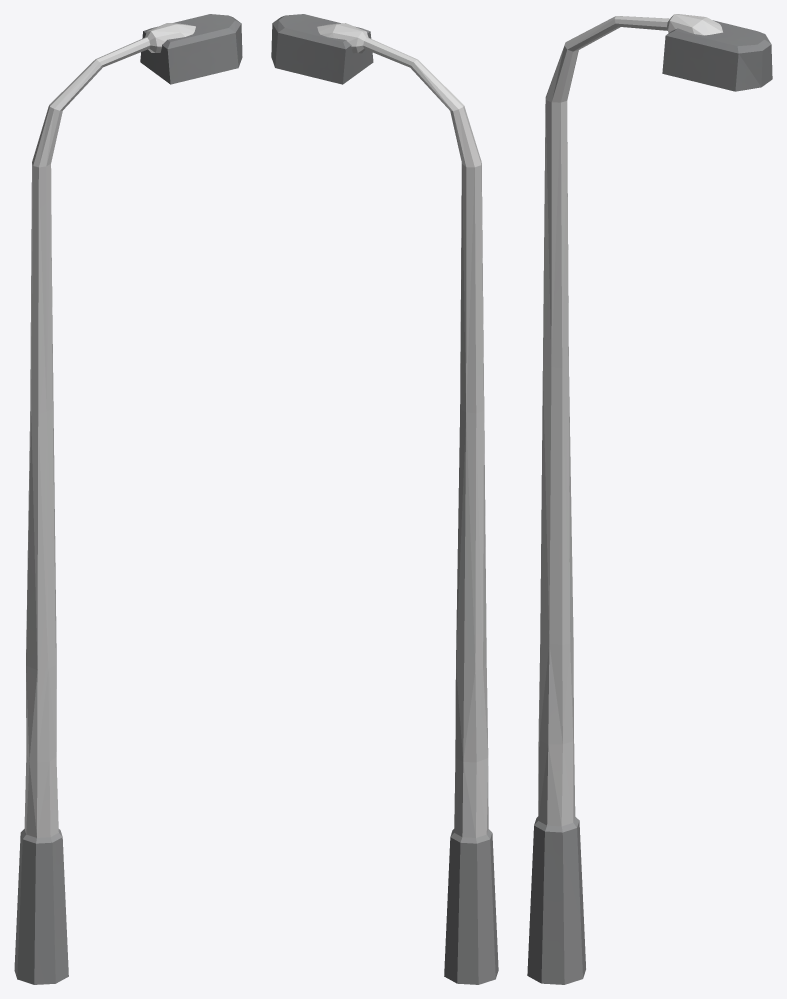
The model's file is lamp_1.dae.
3 renders of one model, left to right at view 1: azimuth 30°, elevation 25°; view 2: azimuth 150°, elevation 25°; view 3: azimuth 330°, elevation 25°, orthographic. The views are drawn at different scales.
Parts seen in each view (by area): view 1: lamp_1; view 2: lamp_1; view 3: lamp_1.
Part boxes in pixels (bbox=[...]): lamp_1: bbox=[14, 14, 242, 984]; lamp_1: bbox=[271, 14, 498, 984]; lamp_1: bbox=[527, 14, 772, 984].
Bounding box in the file's own units: 1.6 × 0.3872 × 6.38.
1 material, 1 textured.
